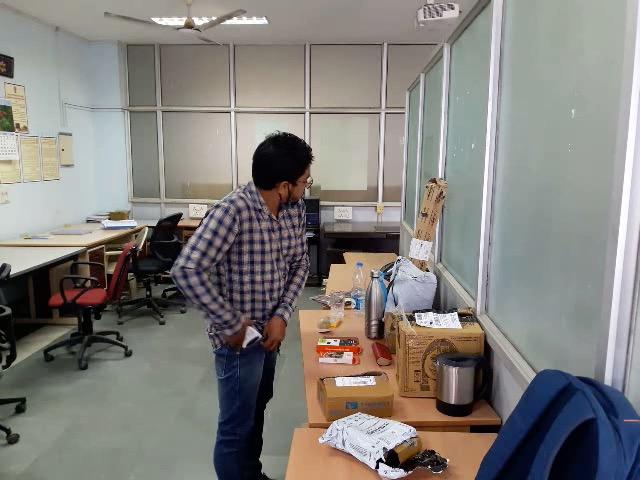shoplifting: (151, 261, 359, 453)
